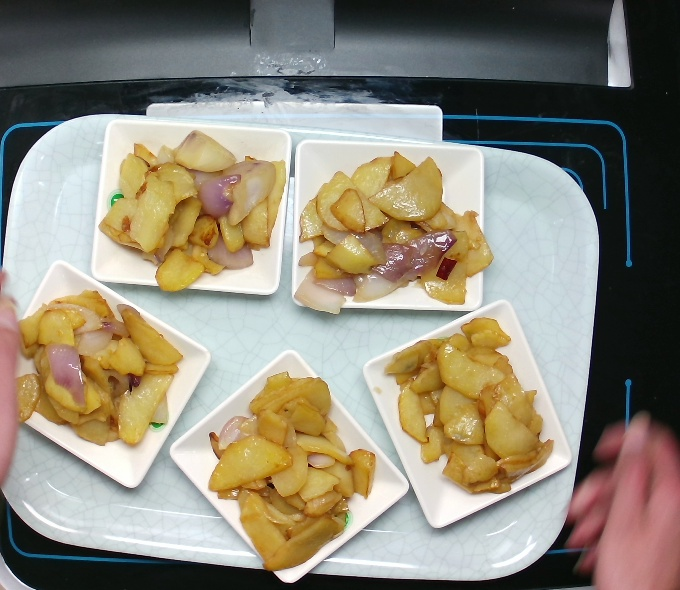wcq-TuDouPian: (201, 366, 375, 570), (381, 311, 558, 496), (91, 132, 288, 292), (293, 152, 490, 312), (8, 287, 187, 453)
